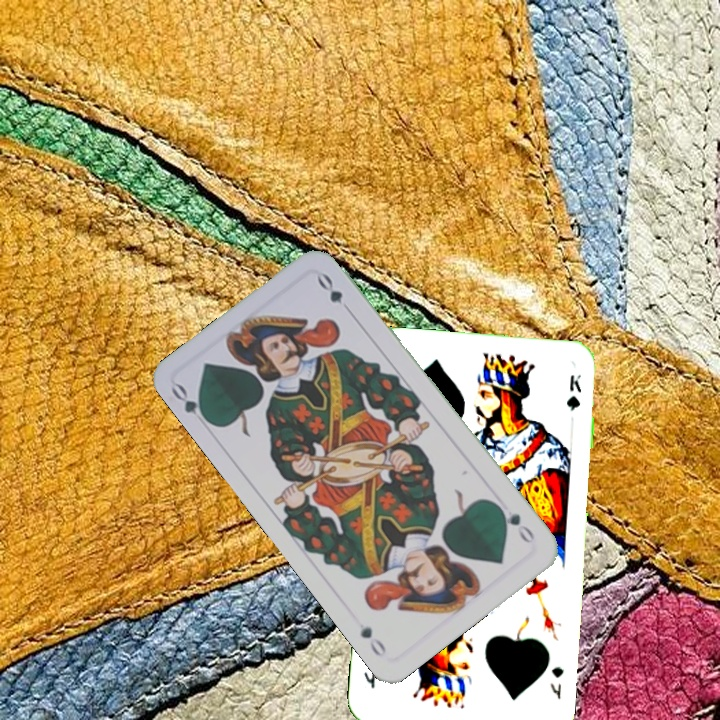GK: (546, 662, 566, 702)
GO: (167, 380, 215, 428), (493, 500, 538, 546)
